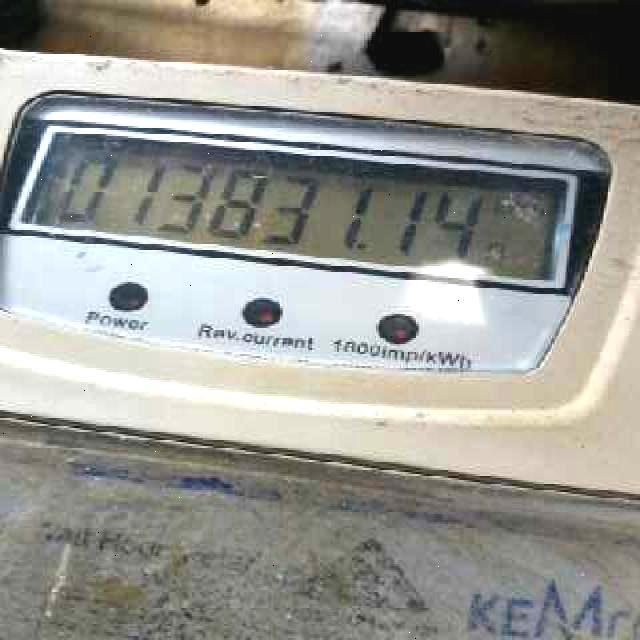LCD: (15, 119, 576, 294)
